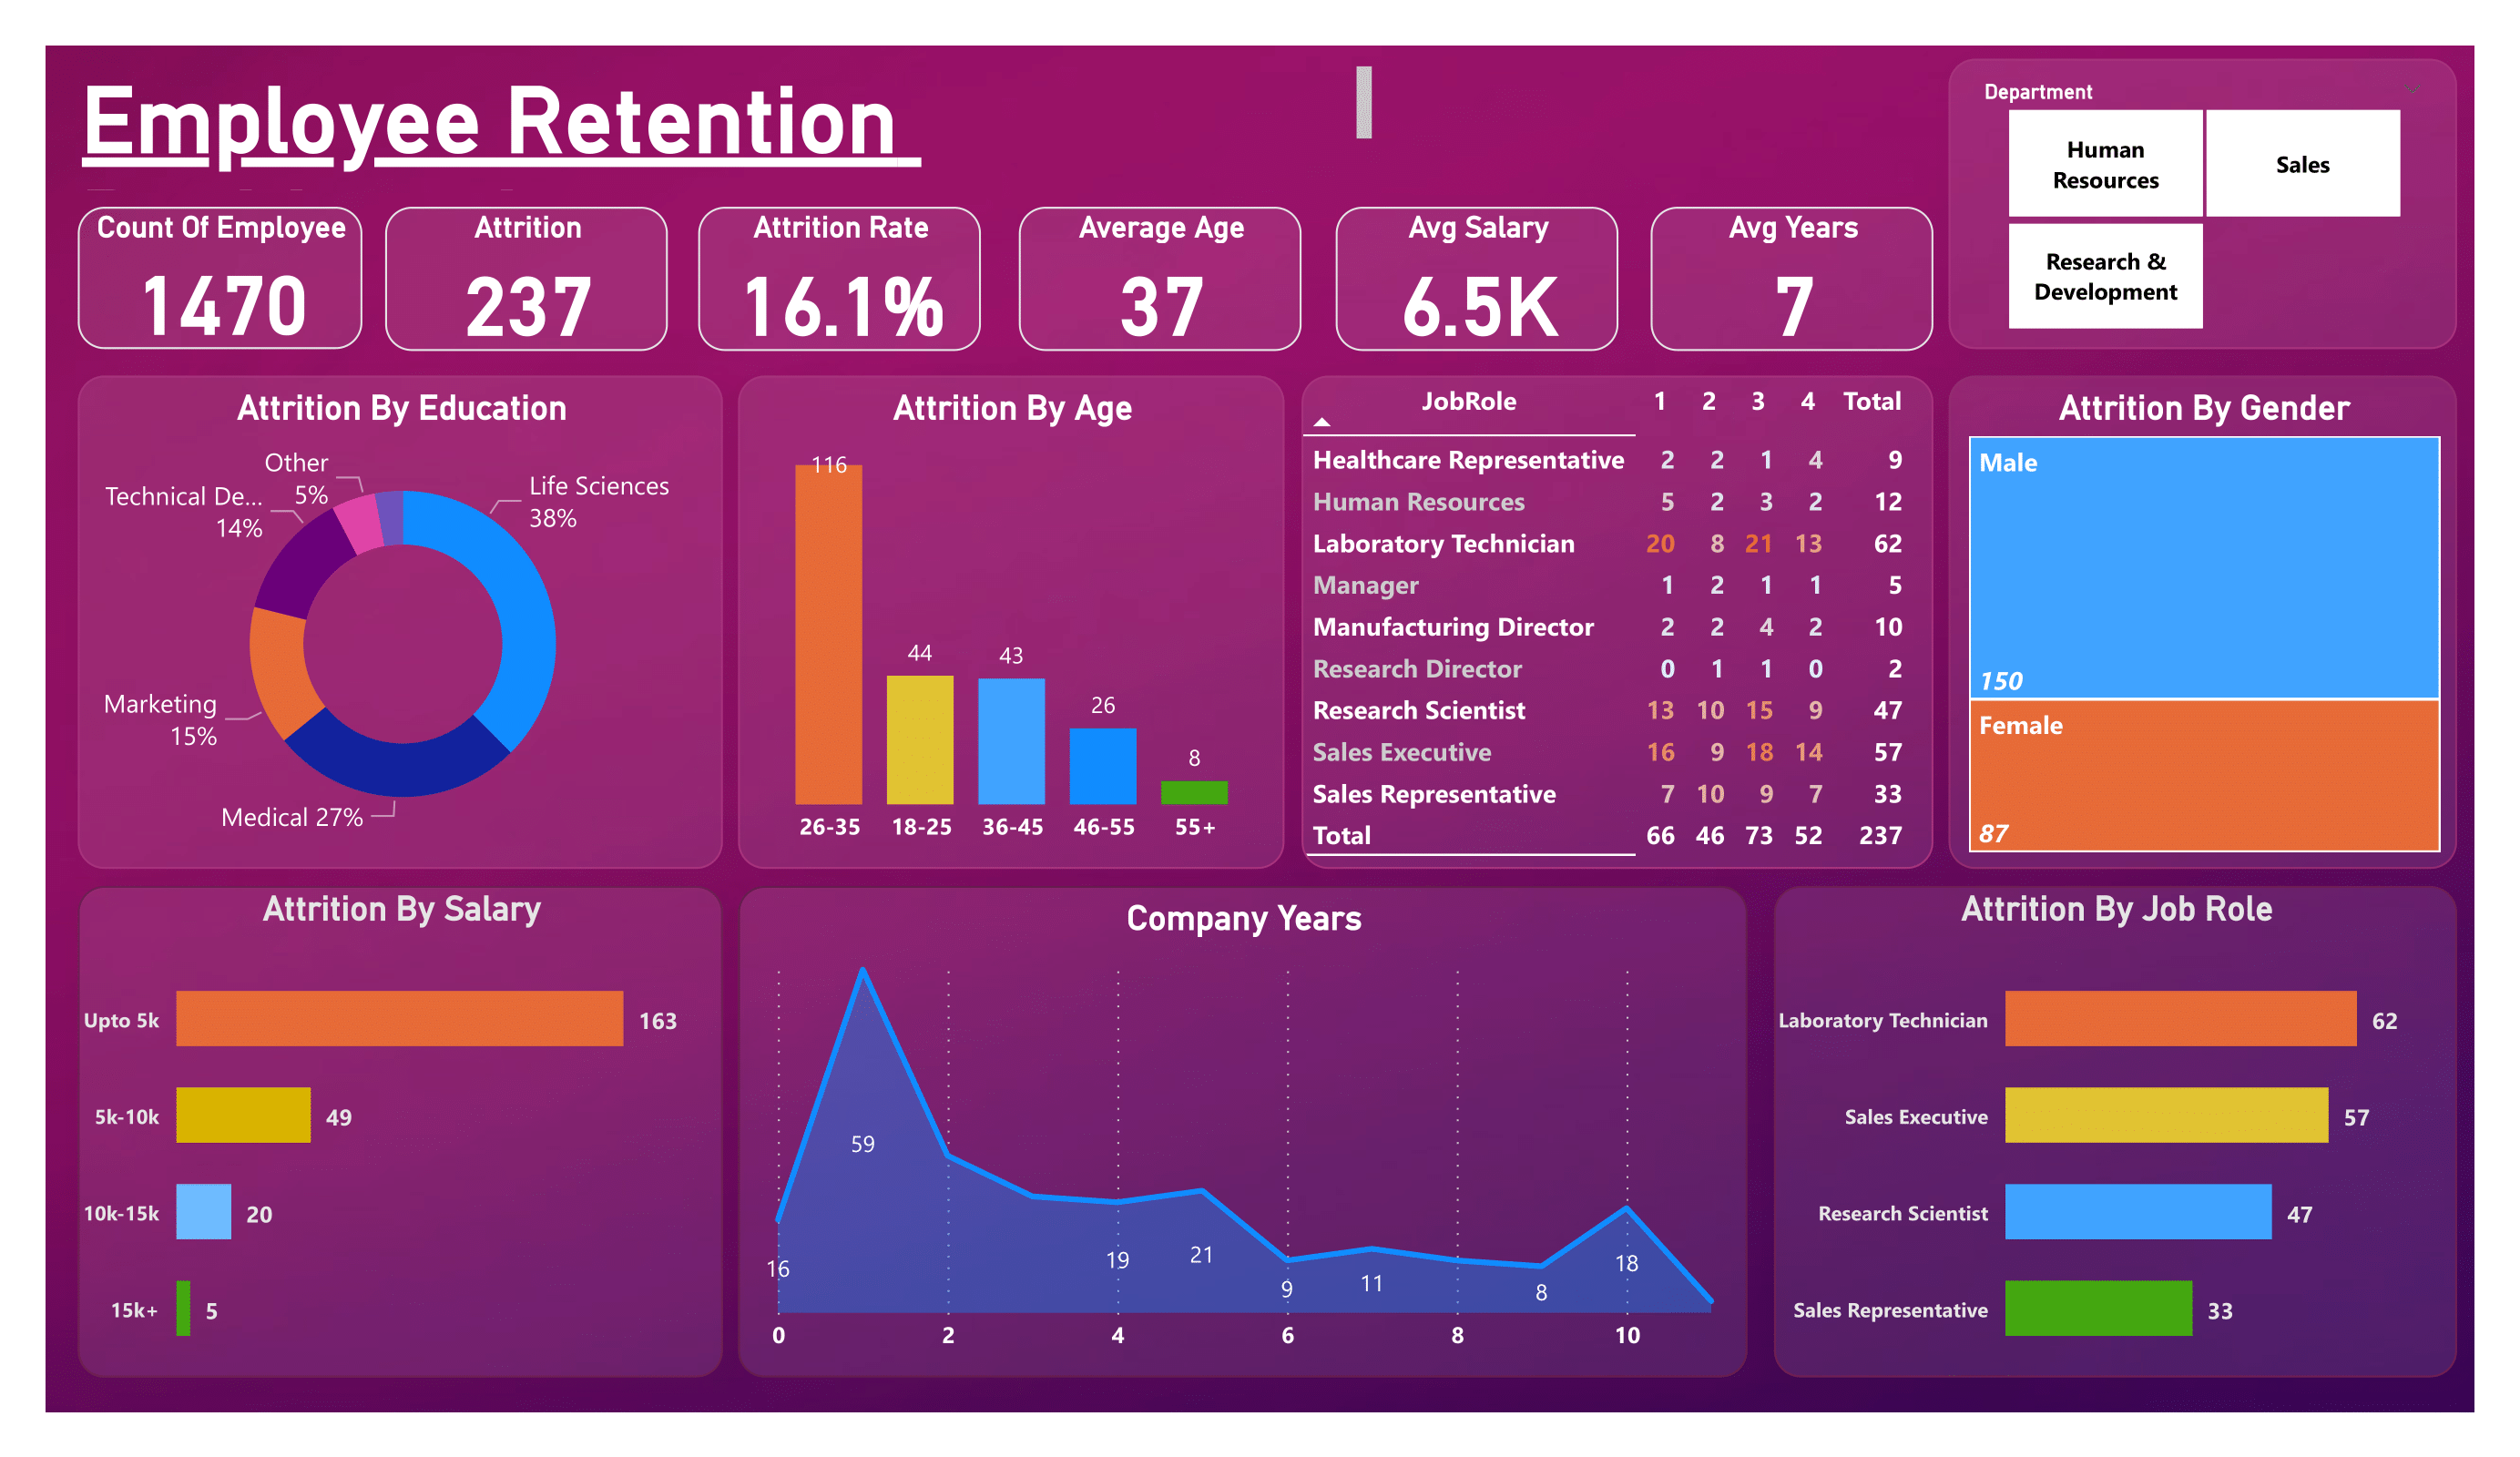

What the dashboard file says about the page in this screenshot:
{"tool":"powerbi","page":{"name":"HR Data Analysis","canvas":[1280,720],"ordinal":0},"visuals":[{"type":"card","title":"Count Of Employee","fields":{"Values":["CountNonNull(HR_Analytics.EmpID)"]},"box":[16.7,85.2,150.1,74.6],"z":0},{"type":"card","title":"Attrition","fields":{"Values":["Sum(HR_Analytics.AttritionCount)"]},"box":[179.1,85.2,149.3,75.5],"z":1000},{"type":"card","title":"Attrition Rate","fields":{"Values":["HR_Analytics.AttritionRate"]},"box":[344.2,85.2,149.3,75.5],"z":2000},{"type":"card","title":"Average Age","fields":{"Values":["Avg(HR_Analytics.Age)"]},"box":[512.8,85.2,149.3,75.5],"z":3000},{"type":"card","title":"Avg Years","fields":{"Values":["Avg(HR_Analytics.YearsAtCompany)"]},"box":[845.6,85.2,149.3,75.5],"z":4000},{"type":"card","title":"Avg Salary","fields":{"Values":["Avg(HR_Analytics.MonthlyIncome)"]},"box":[679.6,85.2,149.3,75.5],"z":5000},{"type":"donutChart","title":"Attrition By Education","fields":{"Category":["HR_Analytics.EducationField"],"Y":["Sum(HR_Analytics.AttritionCount)"]},"box":[16.7,173.9,340.7,259.9],"z":6000},{"type":"columnChart","title":"Attrition By Age","fields":{"Category":["HR_Analytics.AgeGroup"],"Y":["Sum(HR_Analytics.AttritionCount)"]},"box":[365.3,173.9,288,259.9],"z":7000},{"type":"pivotTable","fields":{"Rows":["HR_Analytics.JobRole"],"Columns":["HR_Analytics.JobSatisfaction"],"Values":["Sum(HR_Analytics.AttritionCount)"]},"box":[662,173.9,332.8,259.9],"z":8000},{"type":"barChart","title":"Attrition By Salary","fields":{"Category":["HR_Analytics.SalarySlab"],"Y":["Sum(HR_Analytics.AttritionCount)"]},"box":[16.7,443.4,340.7,259],"z":9000},{"type":"barChart","title":"Attrition By Job Role","fields":{"Category":["HR_Analytics.JobRole"],"Y":["Sum(HR_Analytics.AttritionCount)"]},"box":[910.5,443.4,360,259],"z":10000},{"type":"stackedAreaChart","title":"Company Years","fields":{"Category":["HR_Analytics.YearsAtCompany"],"Y":["Sum(HR_Analytics.AttritionCount)"]},"box":[365.3,443.4,532.1,259],"z":11000},{"type":"treemap","title":"Attrition By Gender","fields":{"Group":["HR_Analytics.Gender"],"Values":["Sum(HR_Analytics.AttritionCount)"]},"box":[1002.7,173.9,267.8,259.9],"z":12000},{"type":"slicer","fields":{"Values":["HR_Analytics.Department"]},"box":[1002.7,7,267.8,152.8],"z":13000},{"type":"textbox","box":[14,11.4,690.1,69.4],"z":13001}]}

Visuals, with their boxes on the page's 1280x720 design canvas (x1, y1, x2, y2). These are canvas units, not pixel positions in the 2520x1457 screenshot, which may show the page scaled, cropped or inside an application window:
"Count Of Employee" card: box(17, 85, 167, 160)
"Attrition" card: box(179, 85, 328, 161)
"Attrition Rate" card: box(344, 85, 494, 161)
"Average Age" card: box(513, 85, 662, 161)
"Avg Years" card: box(846, 85, 995, 161)
"Avg Salary" card: box(680, 85, 829, 161)
"Attrition By Education" donutChart: box(17, 174, 357, 434)
"Attrition By Age" columnChart: box(365, 174, 653, 434)
pivotTable - HR_Analytics.JobRole x HR_Analytics.JobSatisfaction: box(662, 174, 995, 434)
"Attrition By Salary" barChart: box(17, 443, 357, 702)
"Attrition By Job Role" barChart: box(910, 443, 1270, 702)
"Company Years" stackedAreaChart: box(365, 443, 897, 702)
"Attrition By Gender" treemap: box(1003, 174, 1270, 434)
slicer - HR_Analytics.Department: box(1003, 7, 1270, 160)
textbox: box(14, 11, 704, 81)
